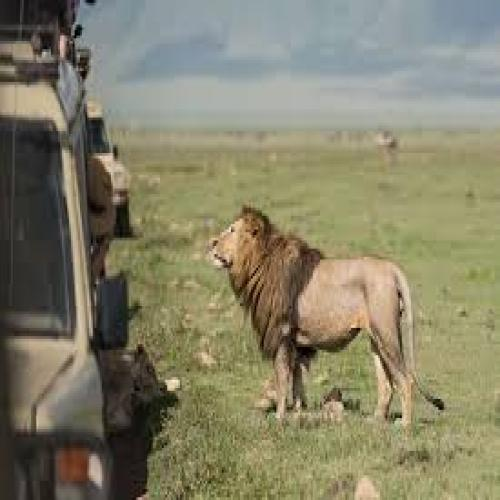lion-endangered: (210, 211, 431, 426)
